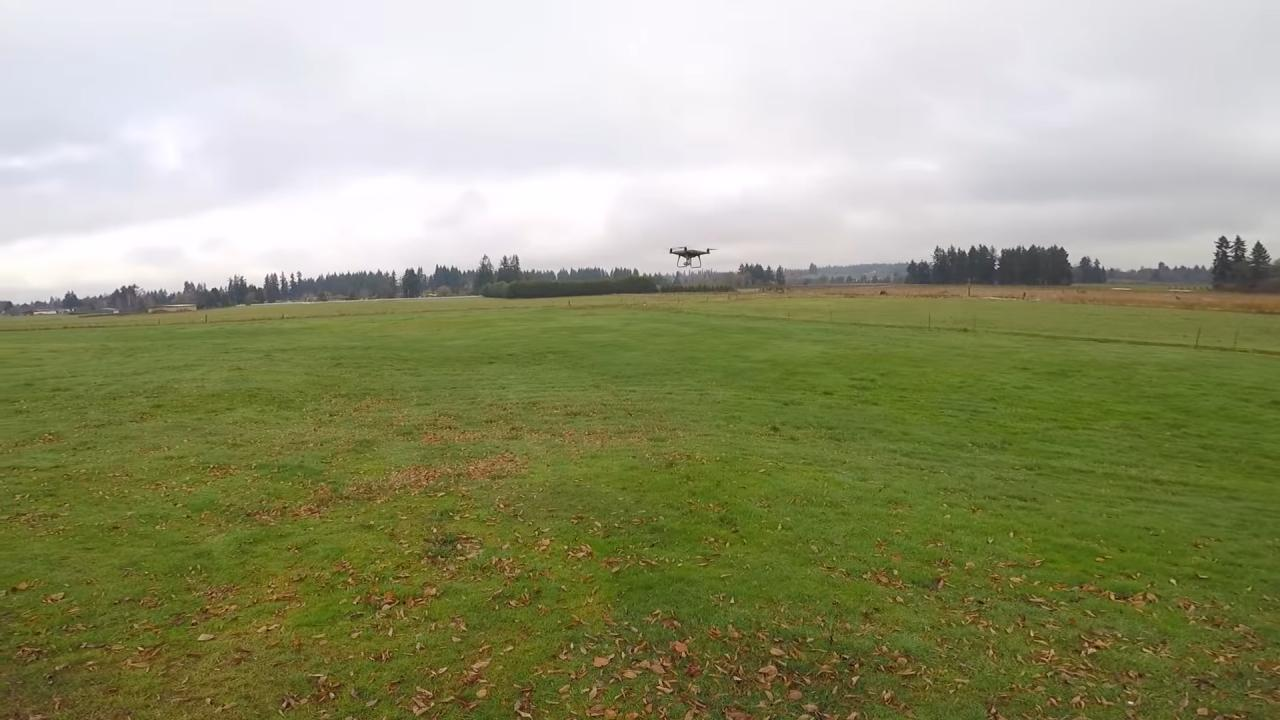Drone: (658, 231, 722, 279)
